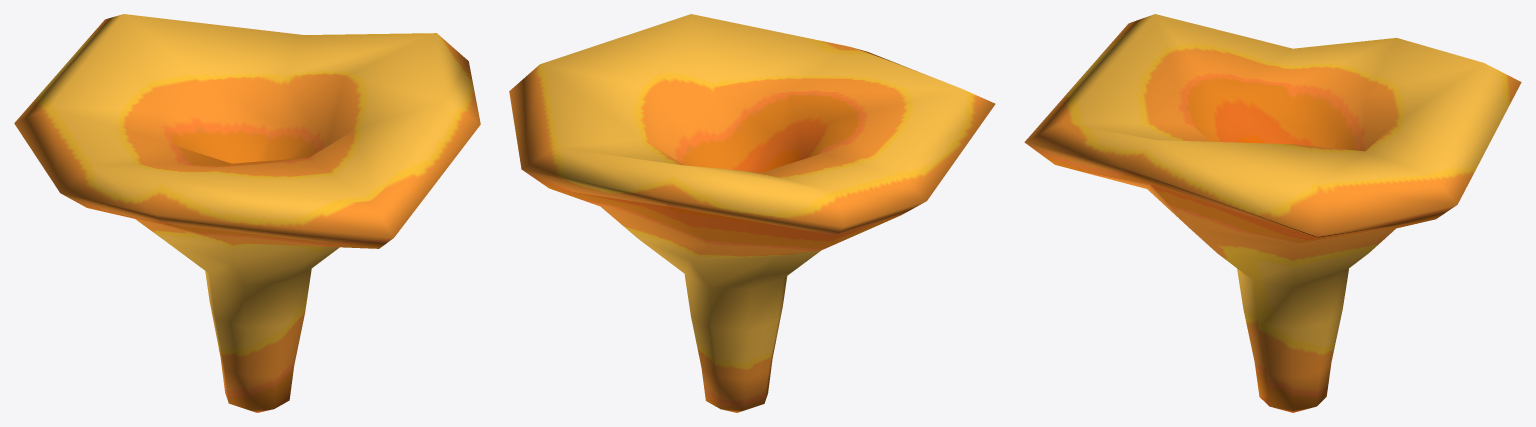
File: Sieni_Kanttarelli.FBX
3 views of the same model, side by side, from view 1: azimuth 30°, elevation 25°; view 2: azimuth 150°, elevation 25°; view 3: azimuth 270°, elevation 25° (orthographic). The views are drawn at different scales.
Parts seen in each view (by area): view 1: Sieni_Kanttarelli; view 2: Sieni_Kanttarelli; view 3: Sieni_Kanttarelli.
Part boxes in pixels (bbox=[...]): Sieni_Kanttarelli: bbox=[14, 14, 480, 412]; Sieni_Kanttarelli: bbox=[509, 14, 995, 412]; Sieni_Kanttarelli: bbox=[1024, 14, 1521, 412].
Bounding box in the file's own units: 68.58 × 52.48 × 71.16.
